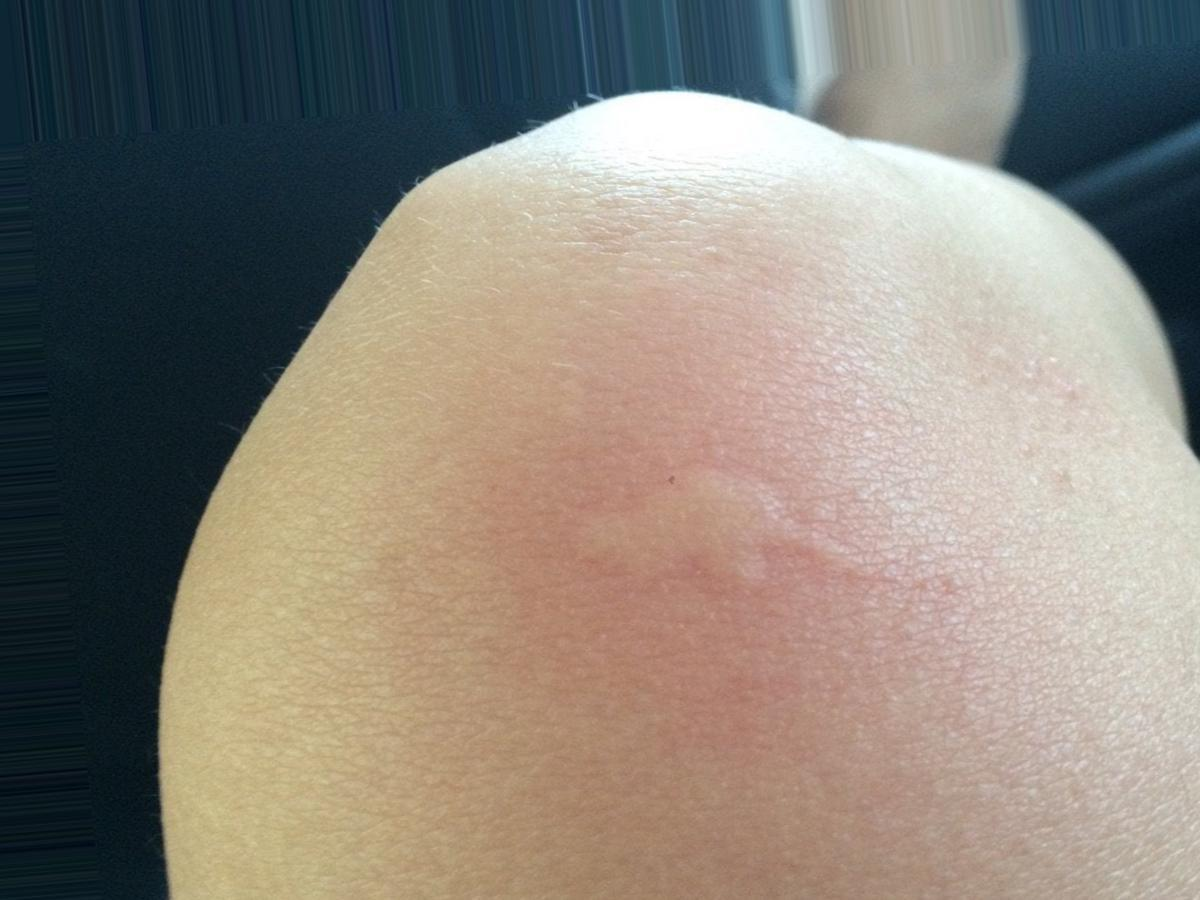Mosquito: (567, 476, 802, 597)
